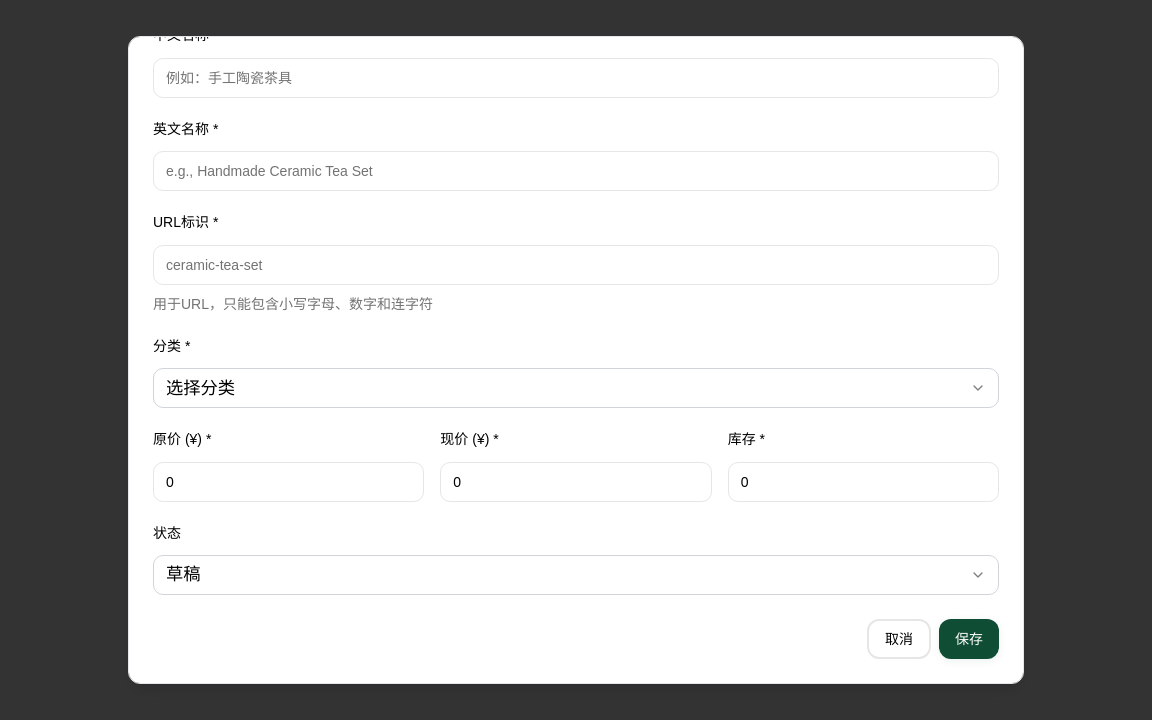
Test case: ProductEditor - Form Validation Tests (Requirements 9.2) › Required Field Validation › should show validation error when English name is empty
(page scrolled)
Click the button "保存" at (969, 639), box [939,619,999,659]
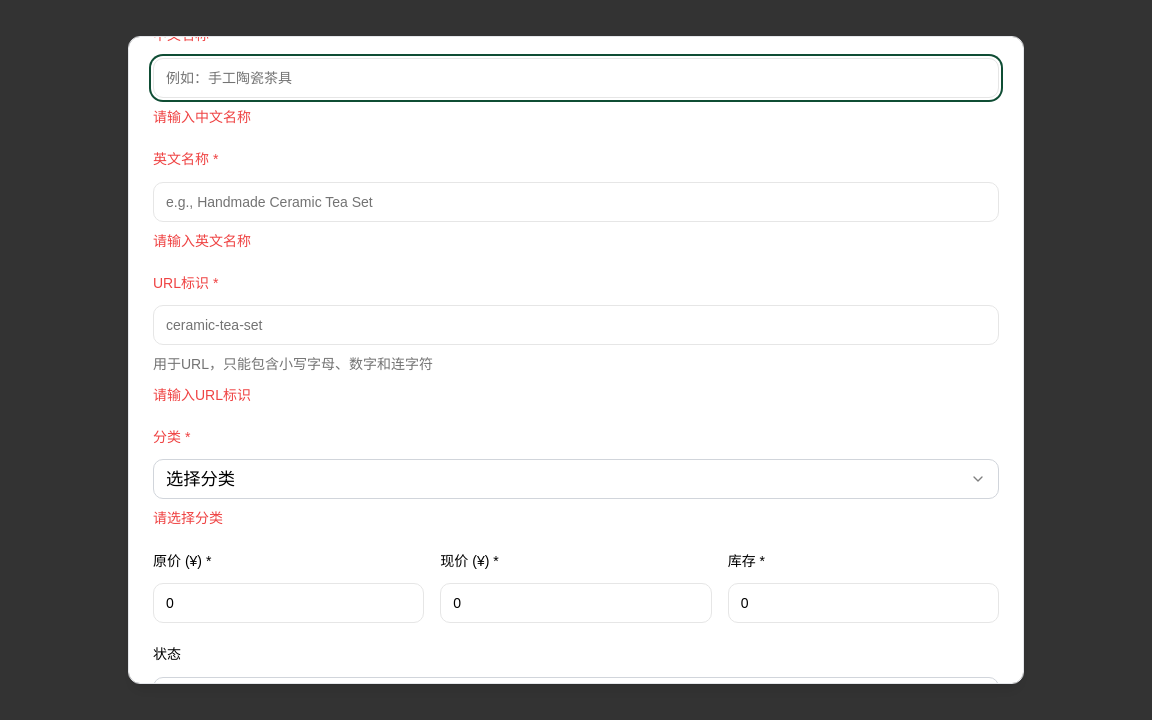
Now the text "请输入英文名称" is shown, box [153,232,251,248]
